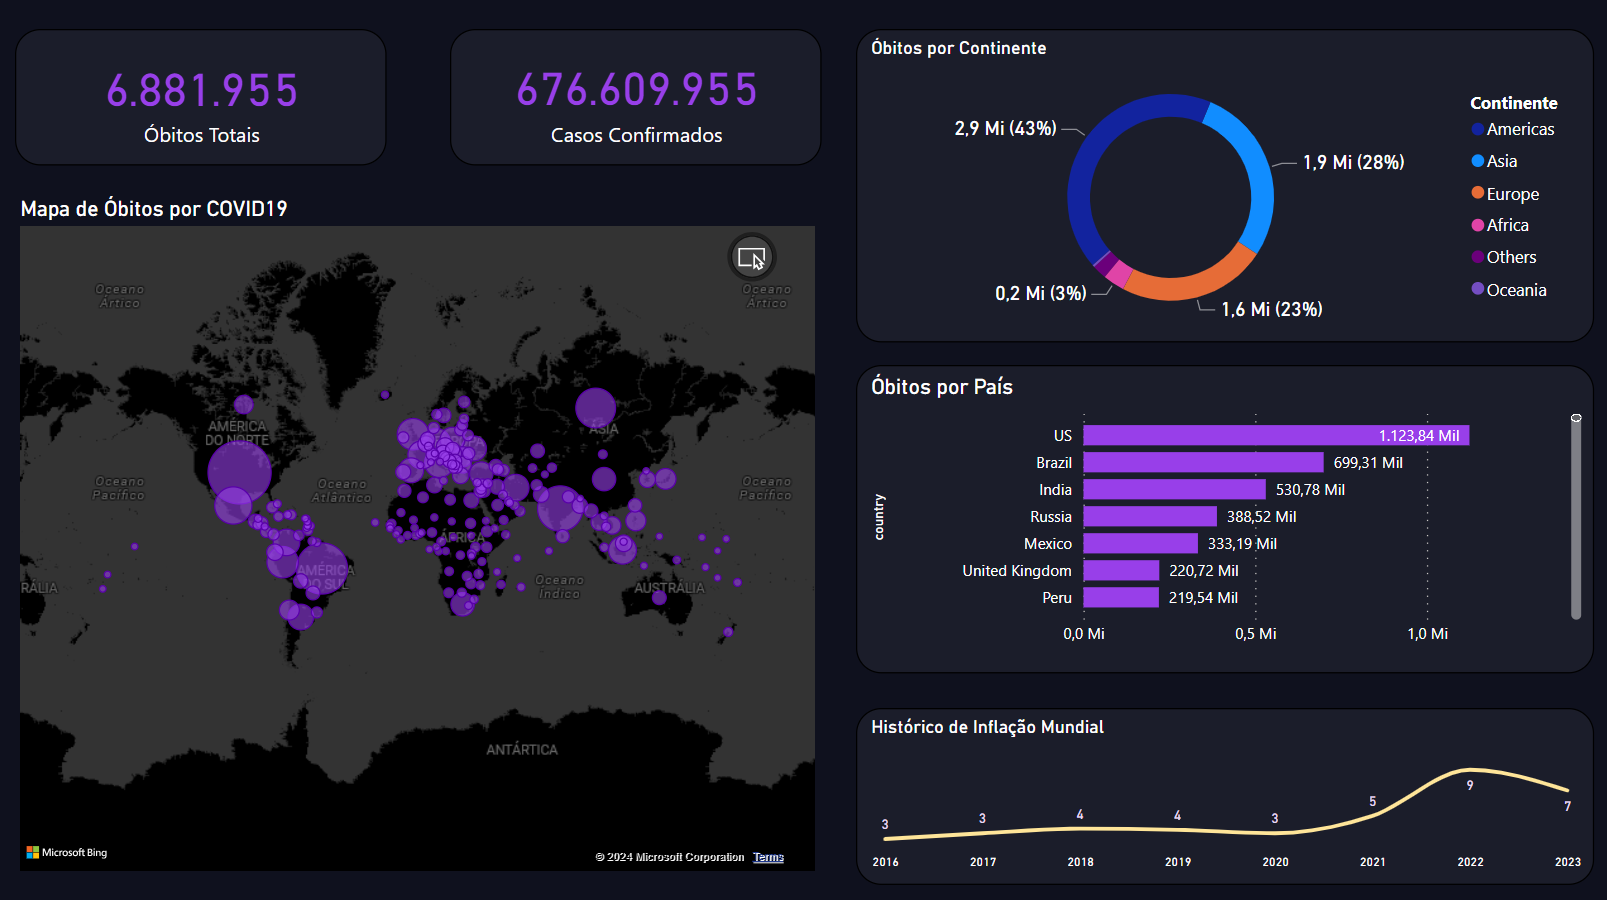

Layout of this report page (visuals, bound fields, positions):
{"tool":"powerbi","page":{"name":"World","canvas":[1280,720],"ordinal":0},"visuals":[{"type":"map","title":"Mapa de Óbitos por COVID19","fields":{"Category":["df_countries.country"],"Size":["Sum(df_countries.deaths)"]},"box":[15.2,157.9,638.6,538.9],"z":0},{"type":"clusteredBarChart","title":"Óbitos por País","fields":{"Category":["df_countries.country"],"Y":["Sum(df_countries.deaths)"]},"box":[681.2,292,583.9,244.5],"z":1000},{"type":"card","fields":{"Values":["Sum(df_countries.deaths)"]},"box":[15.7,26.5,293.8,108.4],"z":2000},{"type":"card","fields":{"Values":["Sum(df_countries.confirmed)"]},"box":[360.2,26.3,293.7,108.1],"z":3000},{"type":"donutChart","title":"Óbitos por Continente","fields":{"Category":["df_countries.Continente"],"Y":["Sum(df_countries.deaths)"]},"box":[681.2,26.1,583.9,248.4],"z":4000},{"type":"lineChart","title":"Histórico de Inflação Mundial","fields":{"Y":["Sum(Inflation.Inflation rate (Annual percent change))"],"Category":["dCalendario.Ano"]},"box":[681.2,563.3,583.9,140],"z":4001}]}

Visuals, with their boxes in screenshot pixels (x1, y1, x2, y2), scaled from the page's 1280x720 canvas onto the 1607x900 screenshot:
"Mapa de Óbitos por COVID19" map: bbox=[19, 197, 821, 871]
"Óbitos por País" clusteredBarChart: bbox=[855, 365, 1588, 671]
card - Sum(df_countries.deaths): bbox=[20, 33, 389, 169]
card - Sum(df_countries.confirmed): bbox=[452, 33, 821, 168]
"Óbitos por Continente" donutChart: bbox=[855, 33, 1588, 343]
"Histórico de Inflação Mundial" lineChart: bbox=[855, 704, 1588, 879]
